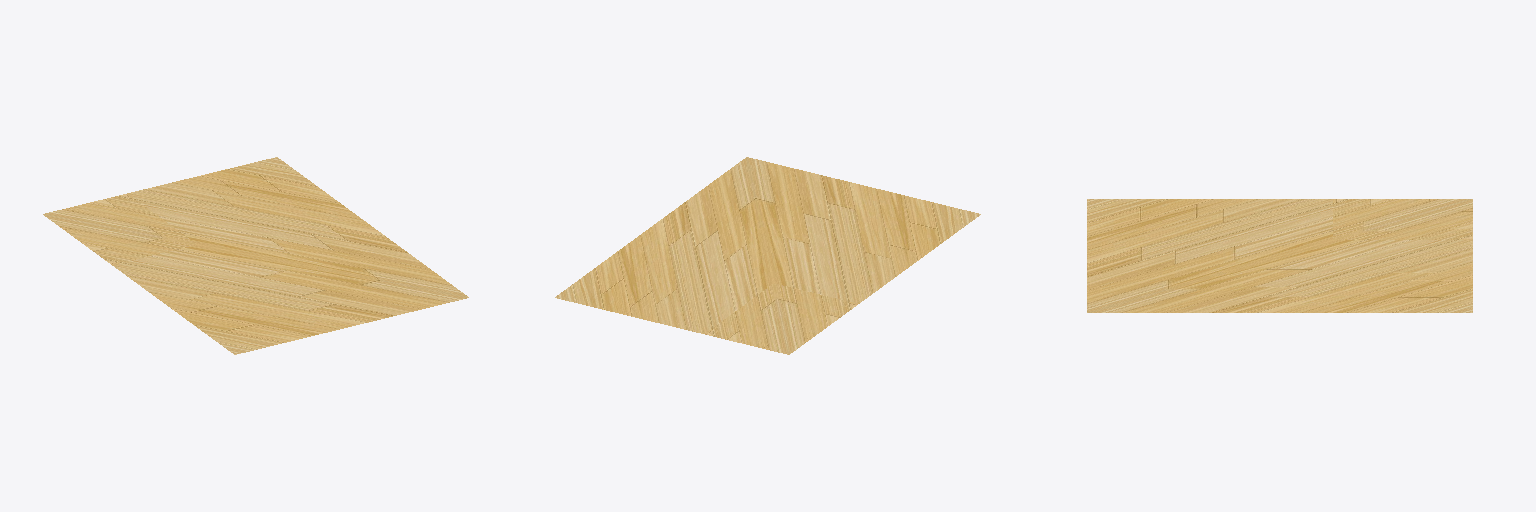
3 views of the same model, side by side, from view 1: azimuth 30°, elevation 25°; view 2: azimuth 150°, elevation 25°; view 3: azimuth 270°, elevation 25° (orthographic).
Size of the model in its own units: 2.21 by 0 by 3.13.
1 materials, 1 textured.